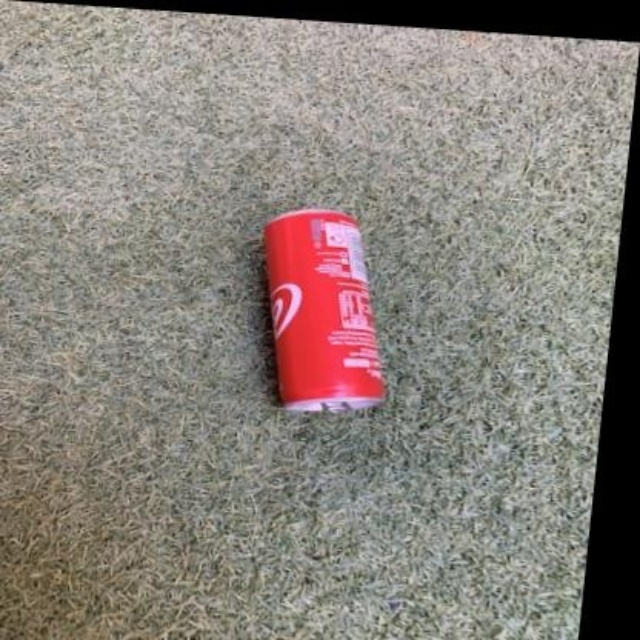trash: (265, 211, 383, 409)
